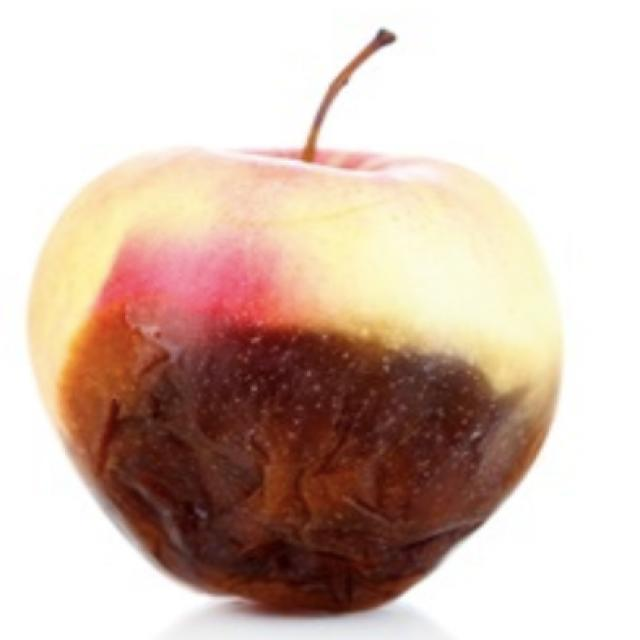Rotten: (36, 136, 573, 640)
